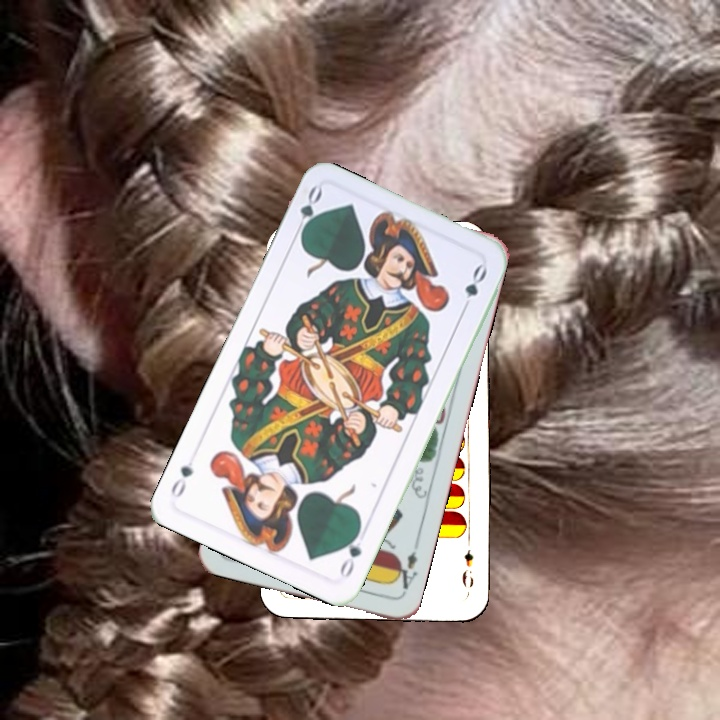E9: (458, 546, 477, 590)
EA: (389, 547, 420, 596)
GO: (290, 182, 325, 241), (335, 524, 365, 580)
